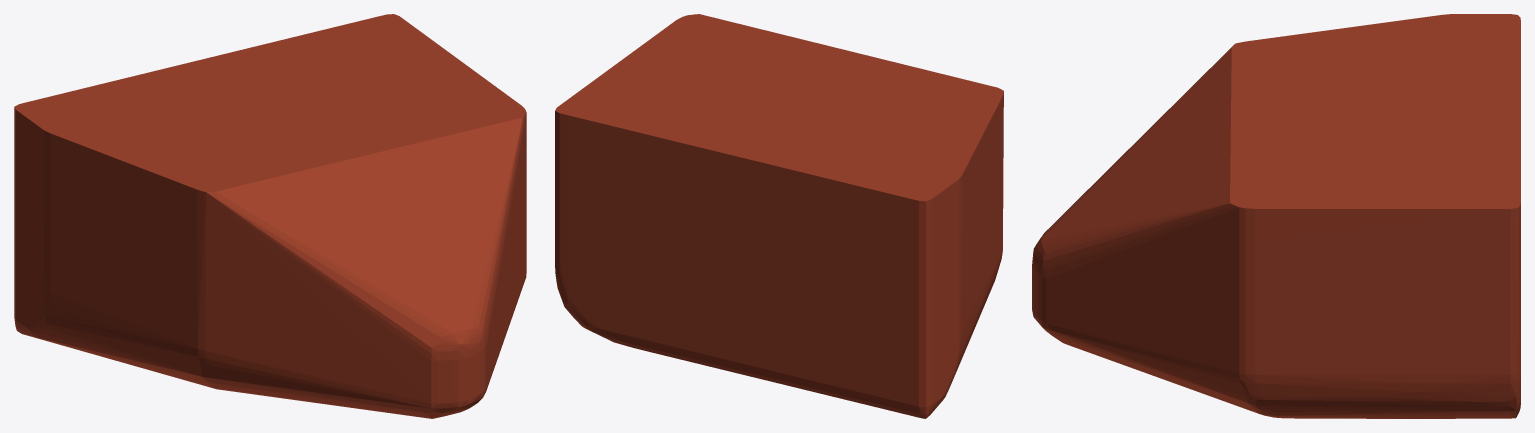
The model's file is left_palm_part_31.obj.
3 views of the same model, side by side, from view 1: azimuth 30°, elevation 25°; view 2: azimuth 150°, elevation 25°; view 3: azimuth 270°, elevation 25° (orthographic). The views are drawn at different scales.
Size of the model in its own units: 21.48 by 12.02 by 22.77.
